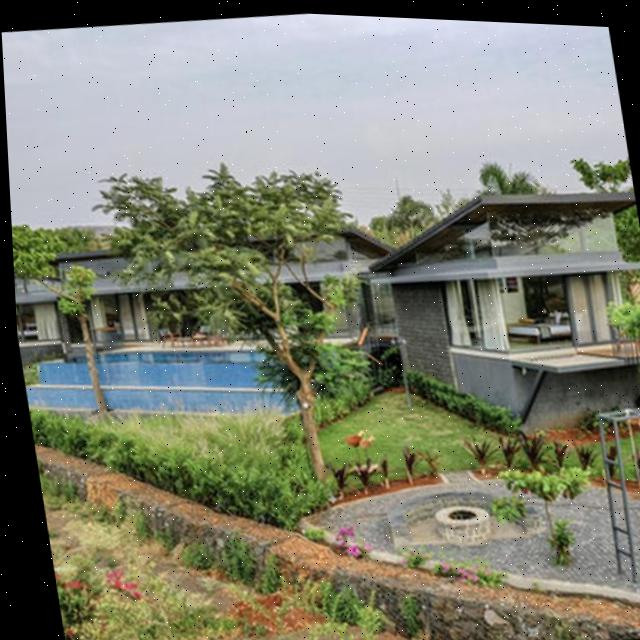building: (360, 170, 640, 454), (11, 203, 398, 376)
